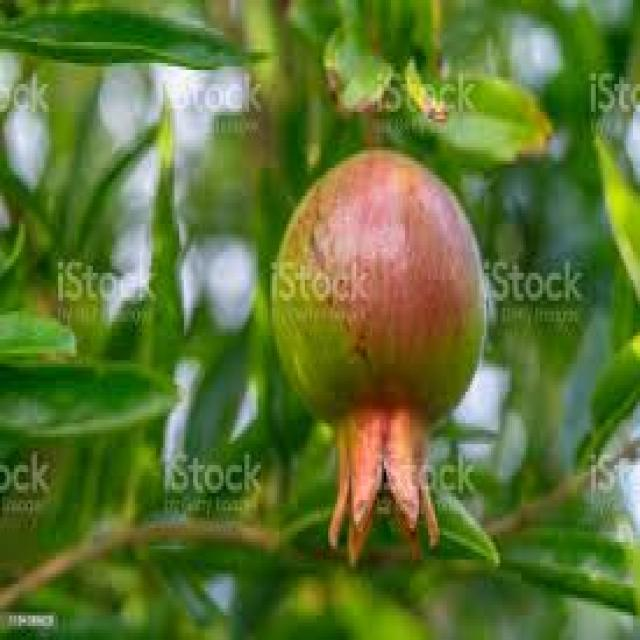Pomegranate: (268, 146, 490, 564)
